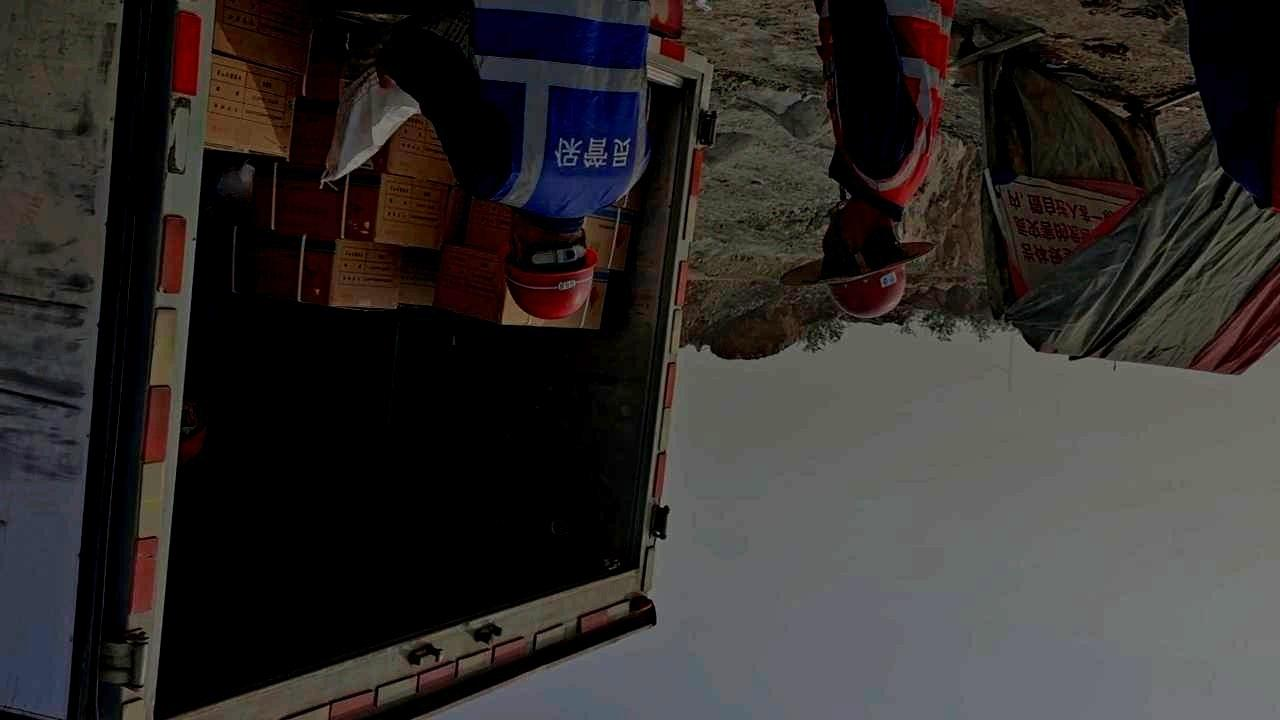helmet: (823, 197, 908, 319), (503, 221, 601, 320)
